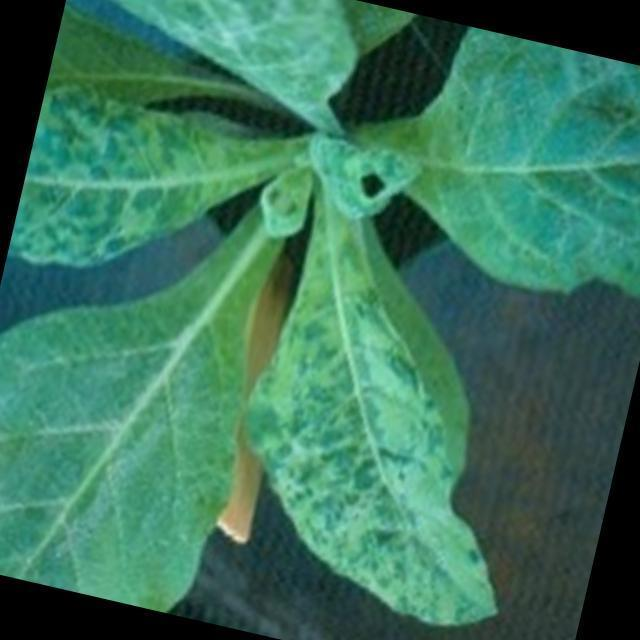Mosaic Virus: (211, 237, 574, 638), (418, 27, 640, 302), (8, 99, 271, 301), (49, 0, 389, 141)
